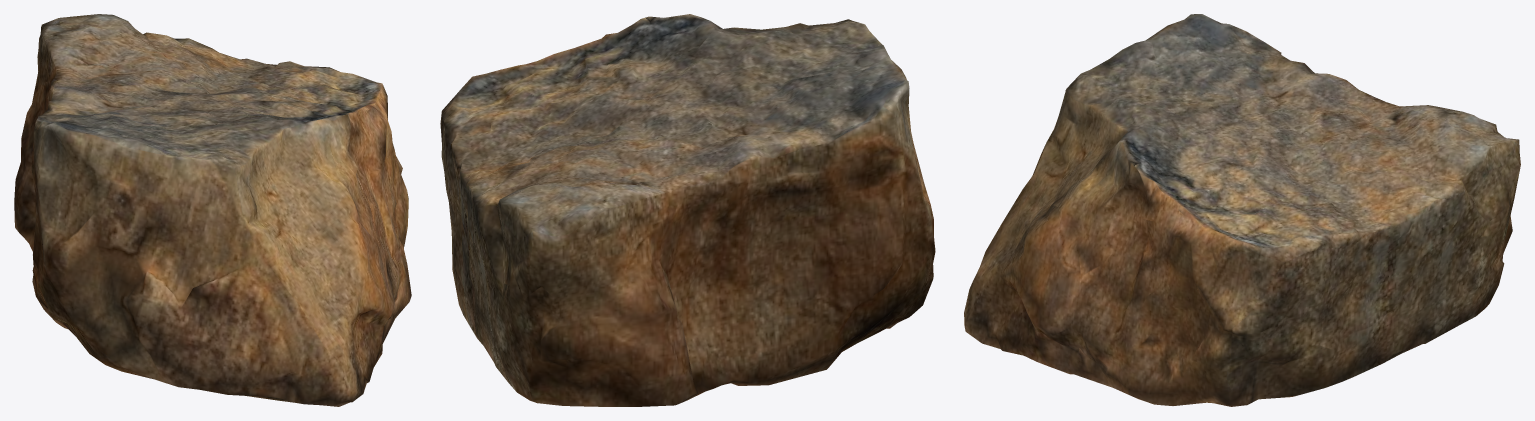
The model's file is namaqualand_boulder_03.glb.
The picture shows the model from 3 angles, left to right: view 1: azimuth 30°, elevation 25°; view 2: azimuth 150°, elevation 25°; view 3: azimuth 270°, elevation 25°; orthographic projection. The views are drawn at different scales.
Bounding box in the file's own units: 2.4 × 1.47 × 3.06.
1 material, 1 textured.
